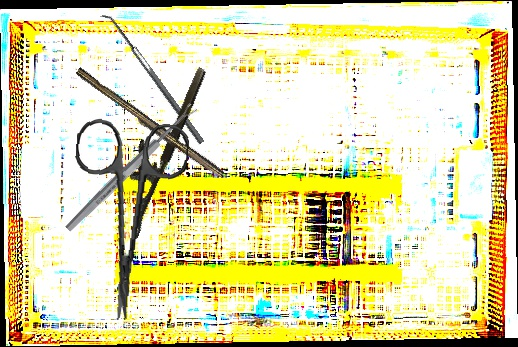Iris Scissors: (61, 116, 191, 326)
Needle Holder: (104, 57, 209, 240)
Scalpel Handle: (72, 66, 227, 182)
Spatula Surgical: (99, 9, 205, 149)
Surgical Spoon: (63, 102, 199, 234)
